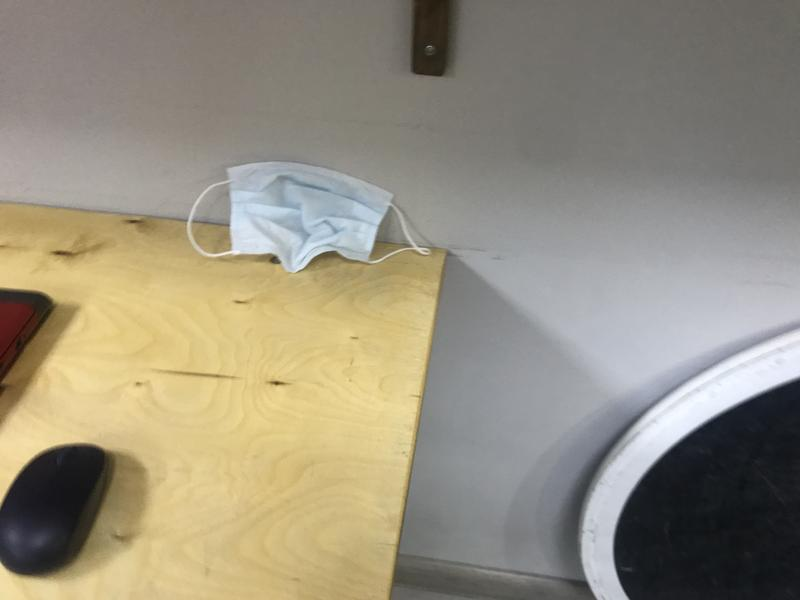medical_mask: (187, 163, 430, 274)
